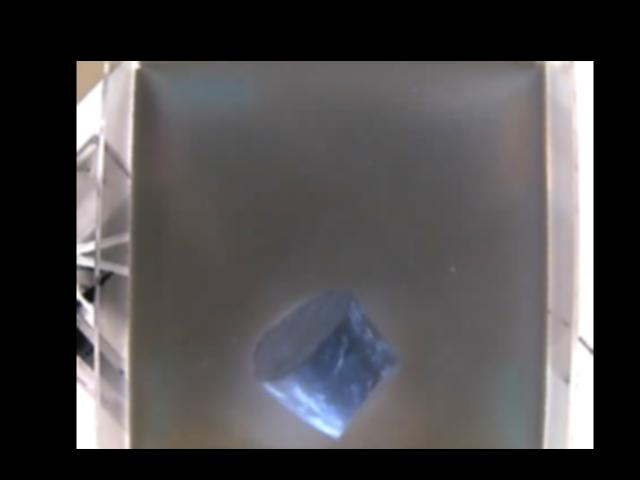Mooli: (253, 285, 404, 438)
